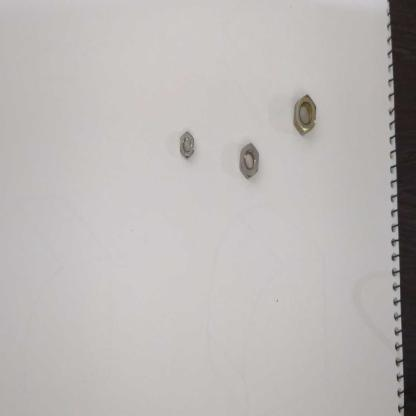NUTS: (235, 123, 272, 193), (290, 88, 321, 151), (176, 115, 201, 176)
